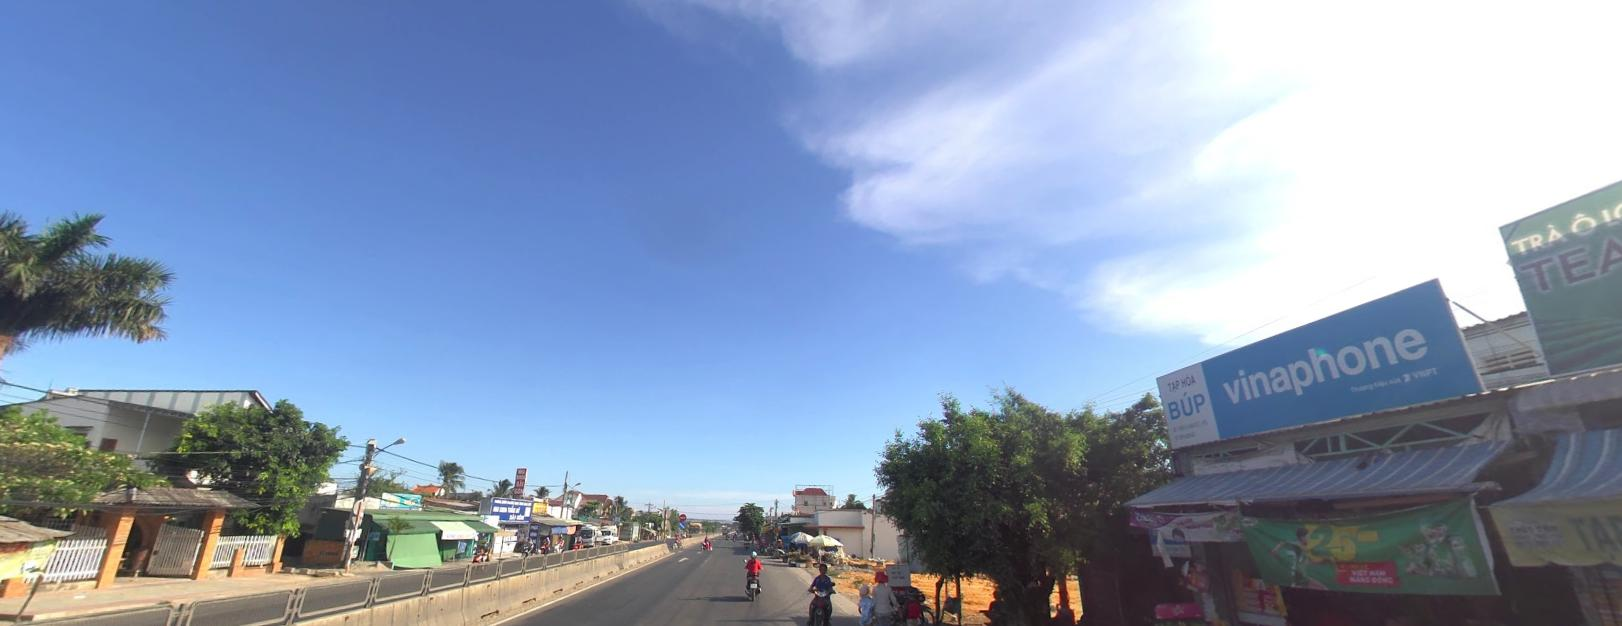Cam nguoc chieu: (679, 513, 685, 520)
Hieu lenh: (678, 520, 685, 528)
